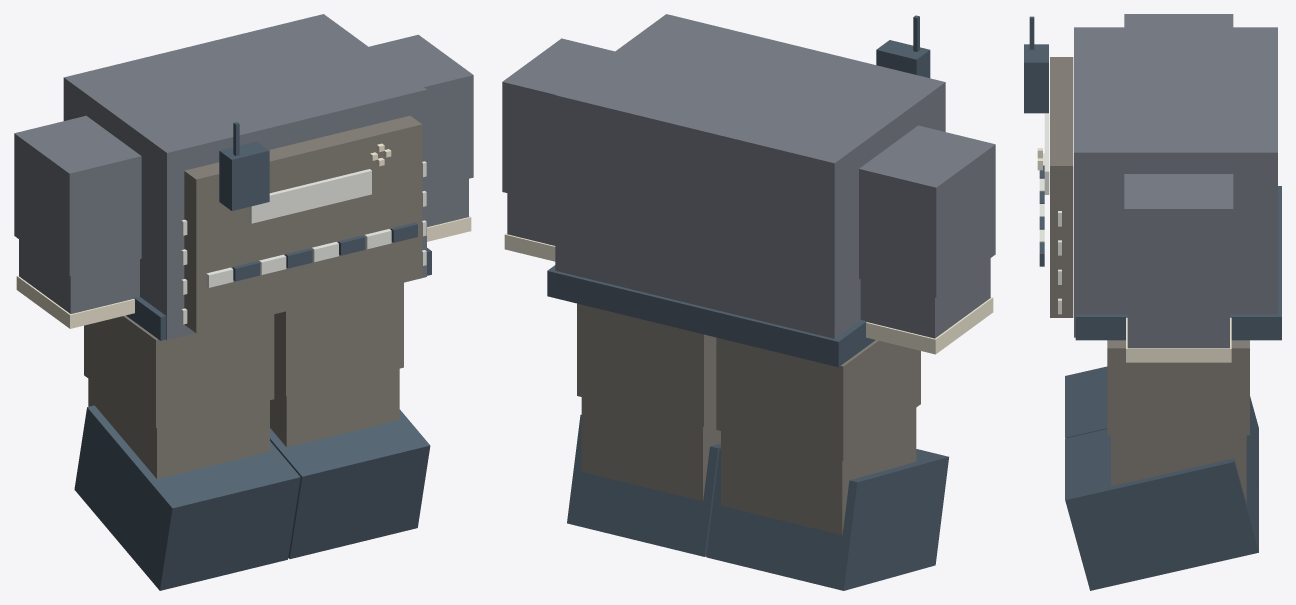
File: police-amber.glb
3 views of the same model, side by side, from view 1: azimuth 30°, elevation 25°; view 2: azimuth 150°, elevation 25°; view 3: azimuth 270°, elevation 25° (orthographic). The views are drawn at different scales.
Visible parts, largest first — view 1: jacket, duty-vest, shoe-Right, upper-sleeve-Right, trouser-Right, shoe-Left, trouser-Left, lower-trouser-Right, upper-sleeve-Left, lower-trouser-Left, lower-sleeve-Right, vest-label (+5 smaller); view 2: jacket, upper-sleeve-Right, shoe-Right, trouser-Right, trouser-Left, lower-trouser-Right, lower-trouser-Left, duty-belt, upper-sleeve-Left, shoe-Left, lower-sleeve-Right, cuff-Right (+3 smaller); view 3: jacket, shoe-Left, upper-sleeve-Left, trouser-Left, duty-vest, lower-trouser-Left, lower-sleeve-Left, shoe-Right, duty-belt, radio, cuff-Left, upper-sleeve-Right (+1 smaller).
Boxes of the visible parts, x1,y1,x2,y2 form: jacket: (63, 14, 426, 340); duty-vest: (184, 115, 422, 333); shoe-Right: (74, 405, 300, 590); upper-sleeve-Right: (14, 115, 141, 276); trouser-Right: (84, 314, 274, 427); shoe-Left: (270, 409, 430, 558); trouser-Left: (274, 282, 403, 396); lower-trouser-Right: (88, 379, 269, 478); upper-sleeve-Left: (369, 34, 473, 188); lower-trouser-Left: (270, 368, 399, 447); lower-sleeve-Right: (19, 239, 139, 313); vest-label: (249, 169, 371, 223); jacket: (555, 14, 945, 338); upper-sleeve-Right: (859, 125, 995, 297); shoe-Right: (706, 448, 948, 590); trouser-Right: (716, 337, 920, 460); trouser-Left: (577, 303, 716, 426); lower-trouser-Right: (721, 408, 916, 534); lower-trouser-Left: (581, 397, 720, 501); duty-belt: (547, 265, 875, 367); upper-sleeve-Left: (502, 38, 614, 204); shoe-Left: (567, 414, 720, 556); lower-sleeve-Right: (860, 258, 990, 338); cuff-Right: (866, 297, 993, 354); jacket: (1074, 27, 1277, 337); shoe-Left: (1065, 429, 1258, 590); upper-sleeve-Left: (1124, 174, 1233, 309); trouser-Left: (1107, 340, 1249, 435); duty-vest: (1050, 57, 1073, 317); lower-trouser-Left: (1111, 435, 1246, 503); lower-sleeve-Left: (1127, 310, 1229, 348); shoe-Right: (1065, 366, 1258, 489); duty-belt: (1075, 186, 1281, 340); radio: (1024, 44, 1048, 113); cuff-Left: (1126, 317, 1231, 362); upper-sleeve-Right: (1124, 14, 1233, 27).
Size of the model in its own units: 1.07 by 1.21 by 0.6.
